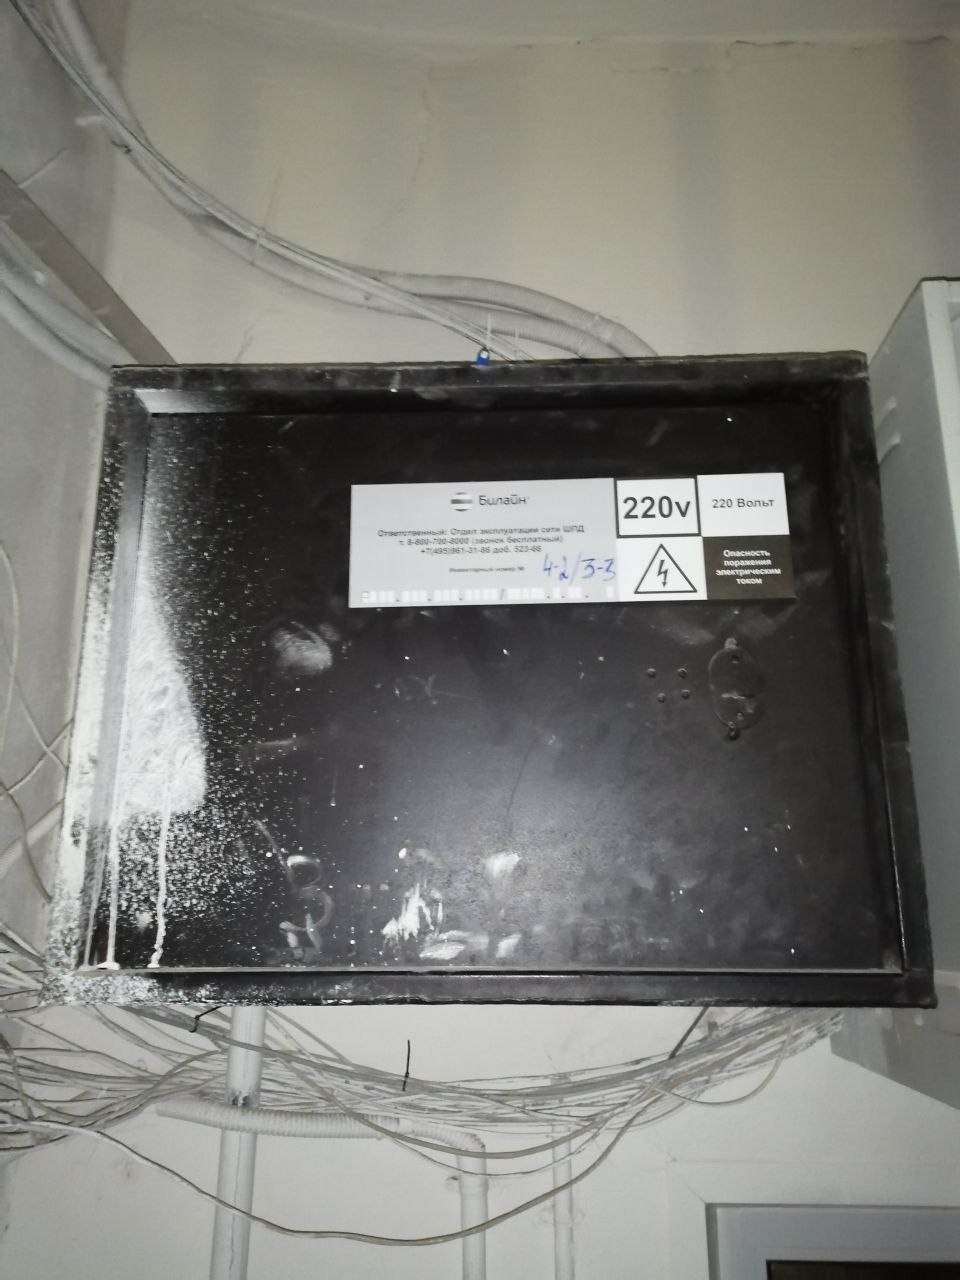shta-9m: (21, 341, 948, 1026)
